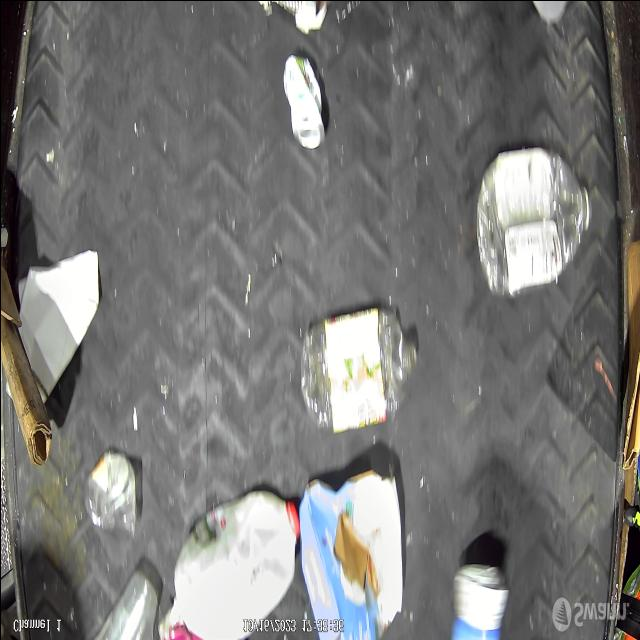can: (280, 46, 330, 150)
milk_jug: (165, 489, 292, 629)
plastic_bottle: (478, 140, 594, 294), (300, 302, 414, 434)
